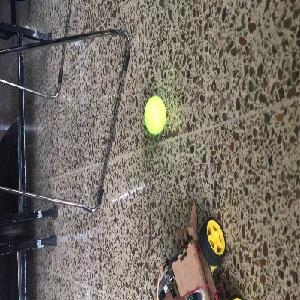Ball: (144, 96, 166, 134)
Robot: (152, 199, 243, 298)
